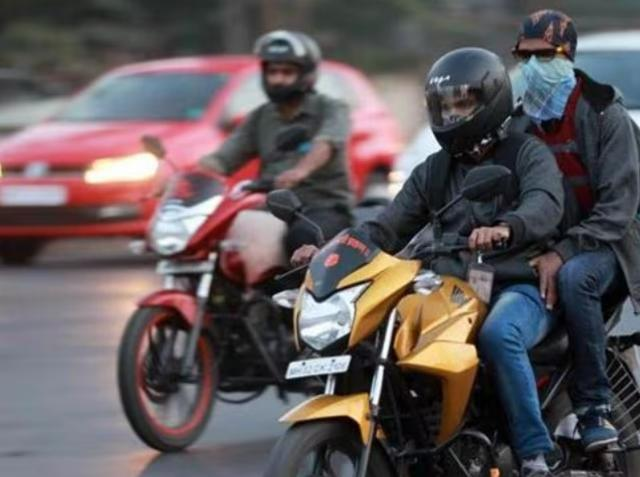licensePlate: (153, 250, 222, 278), (282, 352, 352, 379)
motorcycle: (261, 8, 640, 477), (117, 25, 347, 446)
withHelmet: (416, 57, 497, 141), (261, 38, 323, 98)
withoutHelmet: (519, 14, 584, 113)
